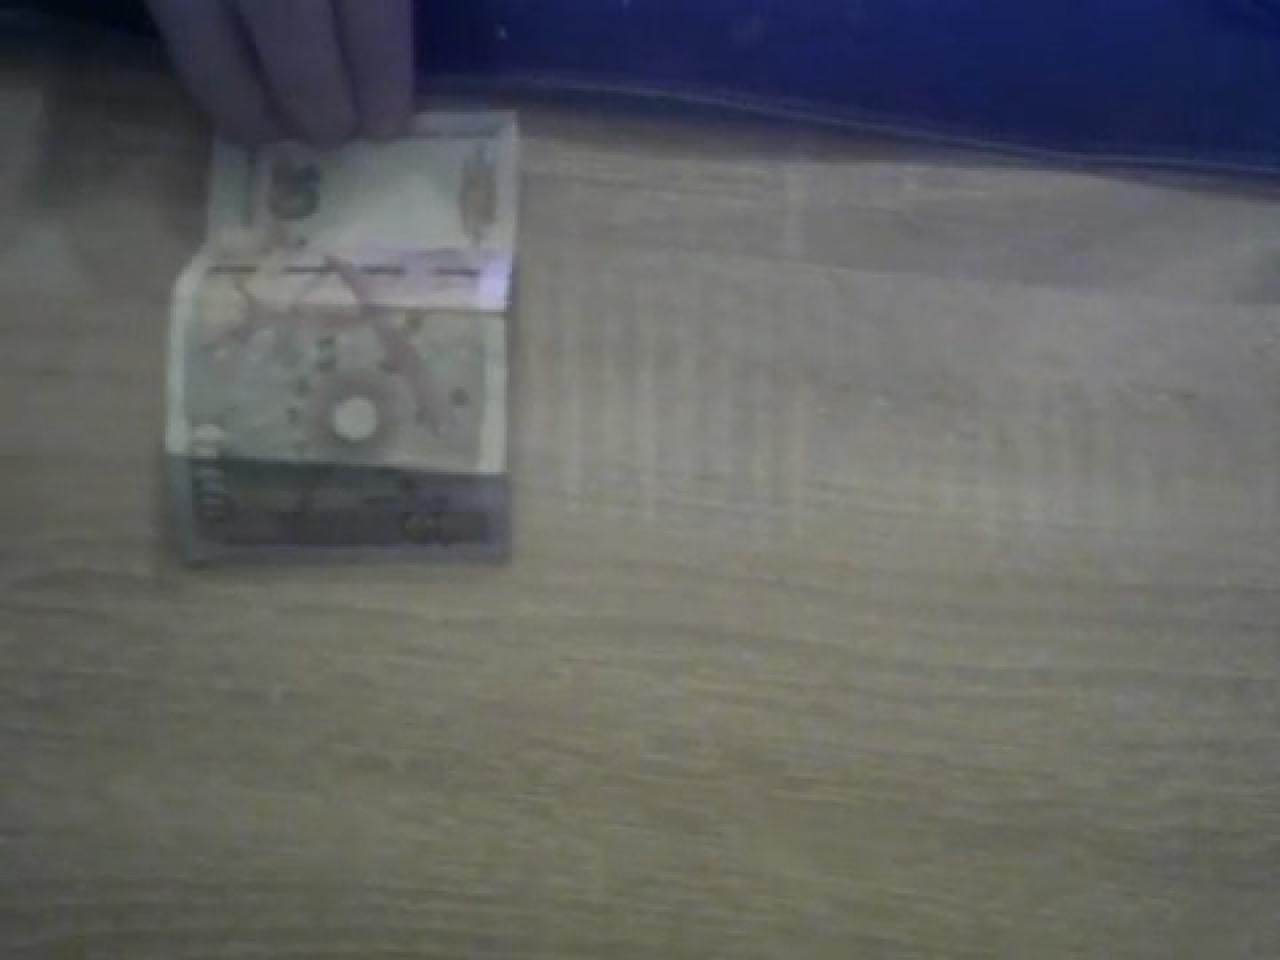10leva: (162, 109, 520, 566)
